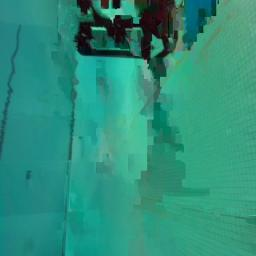Side: (75, 1, 178, 59)
